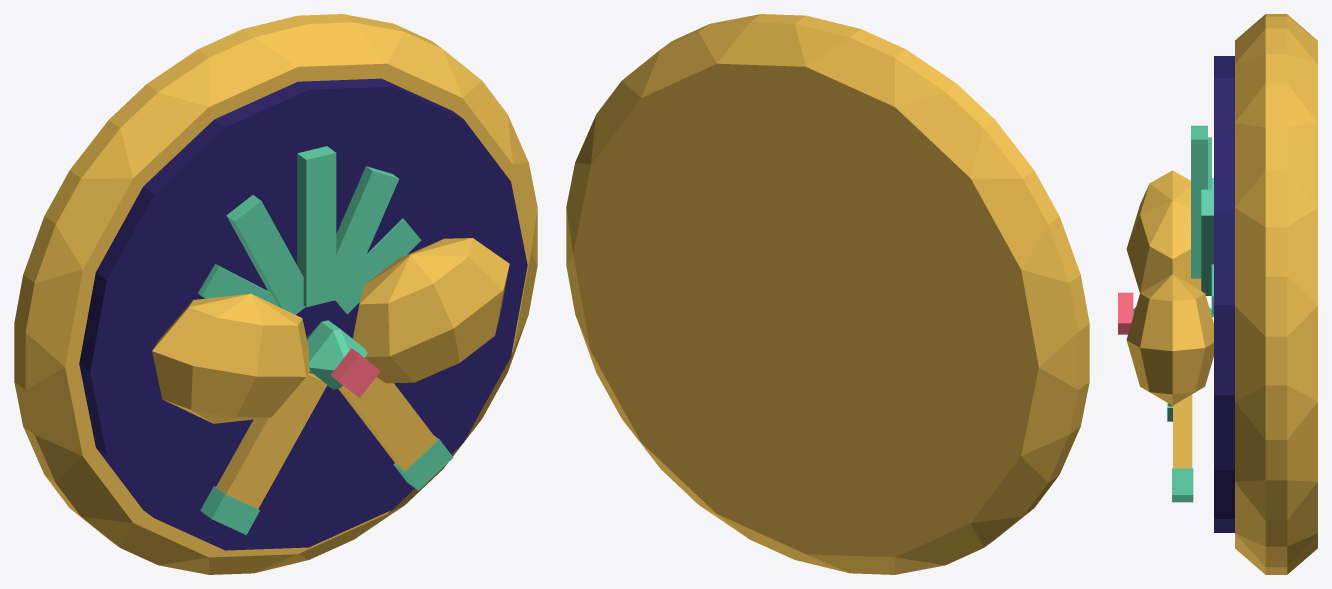
File: CleanACat_Prop_BowButtonMintGolden.fbx
3 renders of one model, left to right at view 1: azimuth 30°, elevation 25°; view 2: azimuth 150°, elevation 25°; view 3: azimuth 270°, elevation 25°, orthographic. The views are drawn at different scales.
Visible parts, largest first — view 1: CleanACat_Prop_BowButtonMintGolden, CleanACat_Prop_BowButtonMintGolden_Gem_Glow; view 2: CleanACat_Prop_BowButtonMintGolden; view 3: CleanACat_Prop_BowButtonMintGolden, CleanACat_Prop_BowButtonMintGolden_Gem_Glow.
Part boxes in pixels (left/top/right/bottom): CleanACat_Prop_BowButtonMintGolden: left=14, top=14, right=537, bottom=574; CleanACat_Prop_BowButtonMintGolden_Gem_Glow: left=330, top=348, right=380, bottom=397; CleanACat_Prop_BowButtonMintGolden: left=566, top=14, right=1089, bottom=574; CleanACat_Prop_BowButtonMintGolden: left=1126, top=14, right=1317, bottom=574; CleanACat_Prop_BowButtonMintGolden_Gem_Glow: left=1118, top=292, right=1133, bottom=334.
Size of the model in its own units: 1.08 by 1.08 by 0.3851.
Materials: 1 (1 with a texture image).
